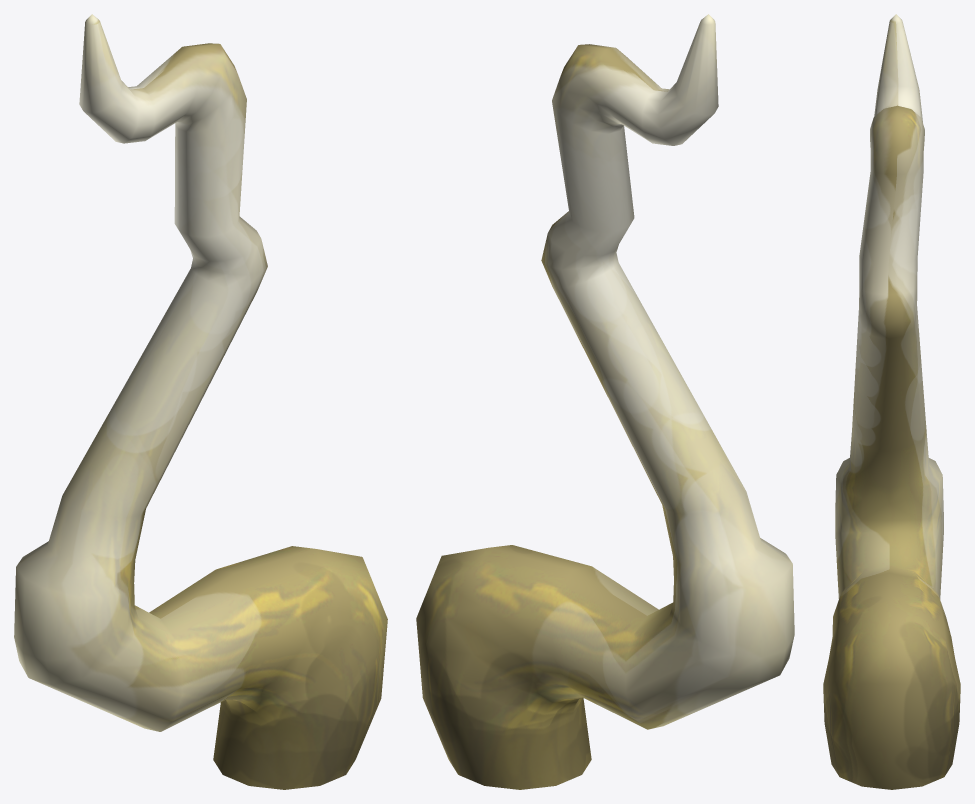
Rendered from Branch_02.fbx.
The picture shows the model from 3 angles, left to right: view 1: azimuth 30°, elevation 25°; view 2: azimuth 150°, elevation 25°; view 3: azimuth 270°, elevation 25°; orthographic projection. The views are drawn at different scales.
Parts seen in each view (by area): view 1: Mesh; view 2: Mesh; view 3: Mesh.
Boxes of the visible parts, left/top/right/bottom form: Mesh: left=14, top=14, right=387, bottom=789; Mesh: left=416, top=14, right=794, bottom=789; Mesh: left=823, top=14, right=960, bottom=789.
Bounding box in the file's own units: 31.16 × 66.15 × 12.29.
